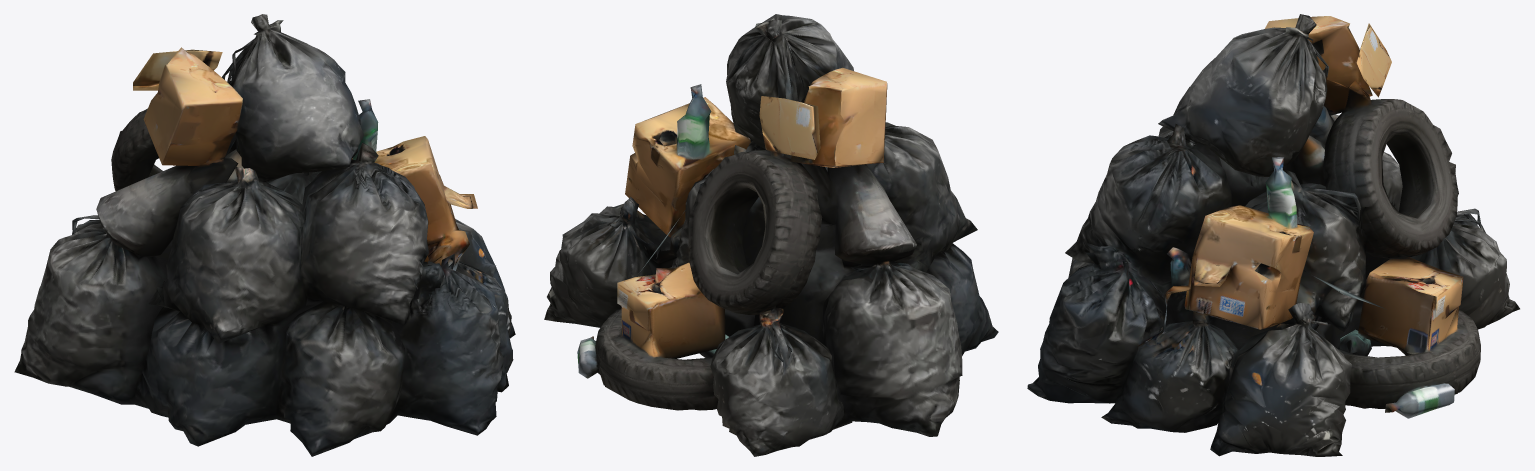
File: trash_pile.glb
The picture shows the model from 3 angles, left to right: view 1: azimuth 30°, elevation 25°; view 2: azimuth 150°, elevation 25°; view 3: azimuth 270°, elevation 25°; orthographic projection.
Parts seen in each view (by area): view 1: tripo_node_faea4d54-0a2f-4c7d-a93d-f3f36533f10c; view 2: tripo_node_faea4d54-0a2f-4c7d-a93d-f3f36533f10c; view 3: tripo_node_faea4d54-0a2f-4c7d-a93d-f3f36533f10c.
Boxes of the visible parts, left/top/right/bottom form: tripo_node_faea4d54-0a2f-4c7d-a93d-f3f36533f10c: left=14, top=14, right=515, bottom=456; tripo_node_faea4d54-0a2f-4c7d-a93d-f3f36533f10c: left=544, top=14, right=998, bottom=456; tripo_node_faea4d54-0a2f-4c7d-a93d-f3f36533f10c: left=1027, top=14, right=1519, bottom=456.
Size of the model in its own units: 0.9799 by 0.7487 by 0.9813.
1 material, 1 textured.
